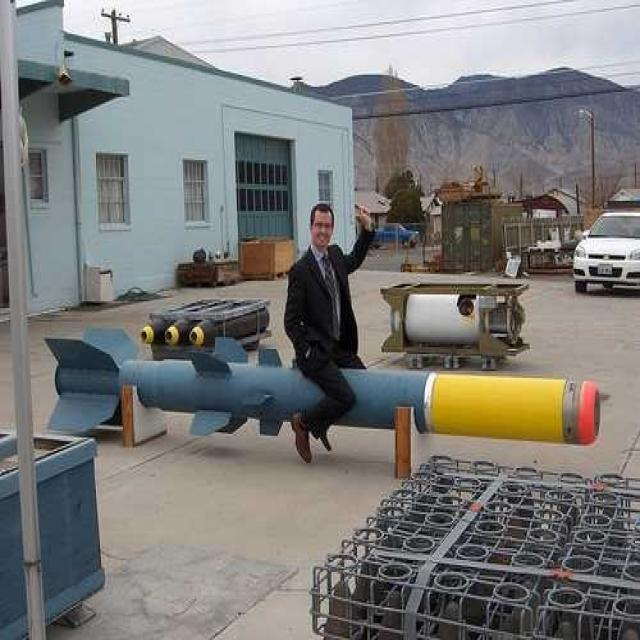missile: (42, 319, 598, 465)
